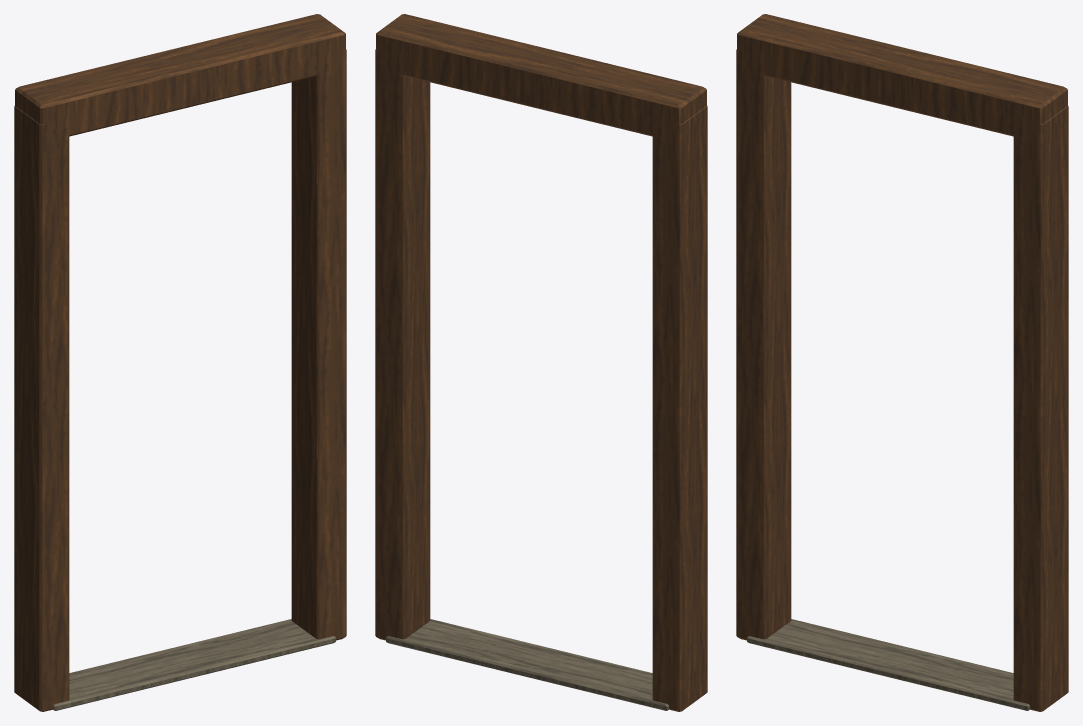
Rendered from DoorFrame.obj.
The picture shows the model from 3 angles, left to right: view 1: azimuth 30°, elevation 25°; view 2: azimuth 150°, elevation 25°; view 3: azimuth 330°, elevation 25°; orthographic projection.
Visible parts, largest first — view 1: DoorFrame_Timber; view 2: DoorFrame_Timber; view 3: DoorFrame_Timber.
Part boxes in pixels (<box>): DoorFrame_Timber: <box>14,14,346,711</box>; DoorFrame_Timber: <box>375,14,707,711</box>; DoorFrame_Timber: <box>736,14,1068,711</box>.
Bounding box in the file's own units: 1.17 × 2.22 × 0.2.
Materials: 2 (2 with a texture image).
